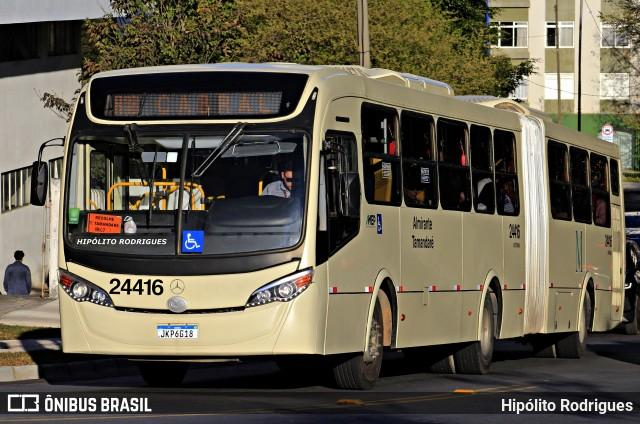CABRAL: (152, 90, 273, 118)
